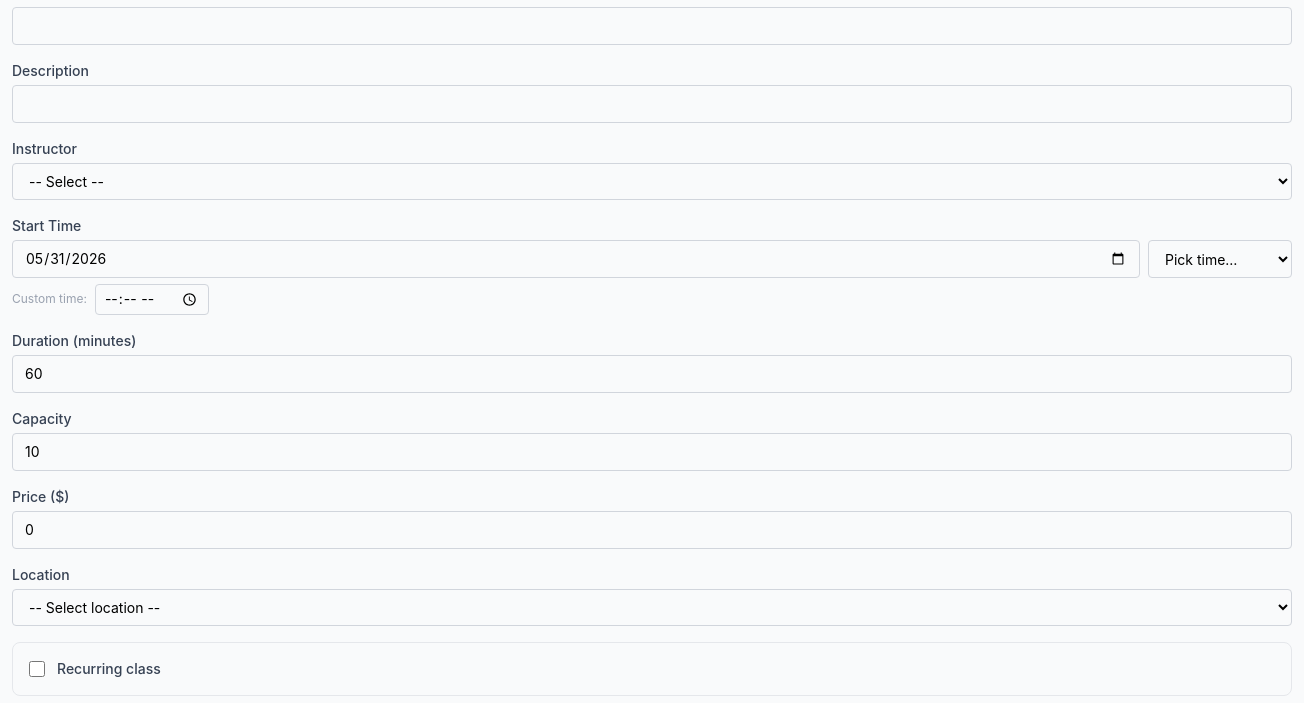
AdminClassForm › shows recurrence end date when recurring is checked
Click the checkbox: x=37, y=669 [29, 661, 45, 677]
(page scrolled)
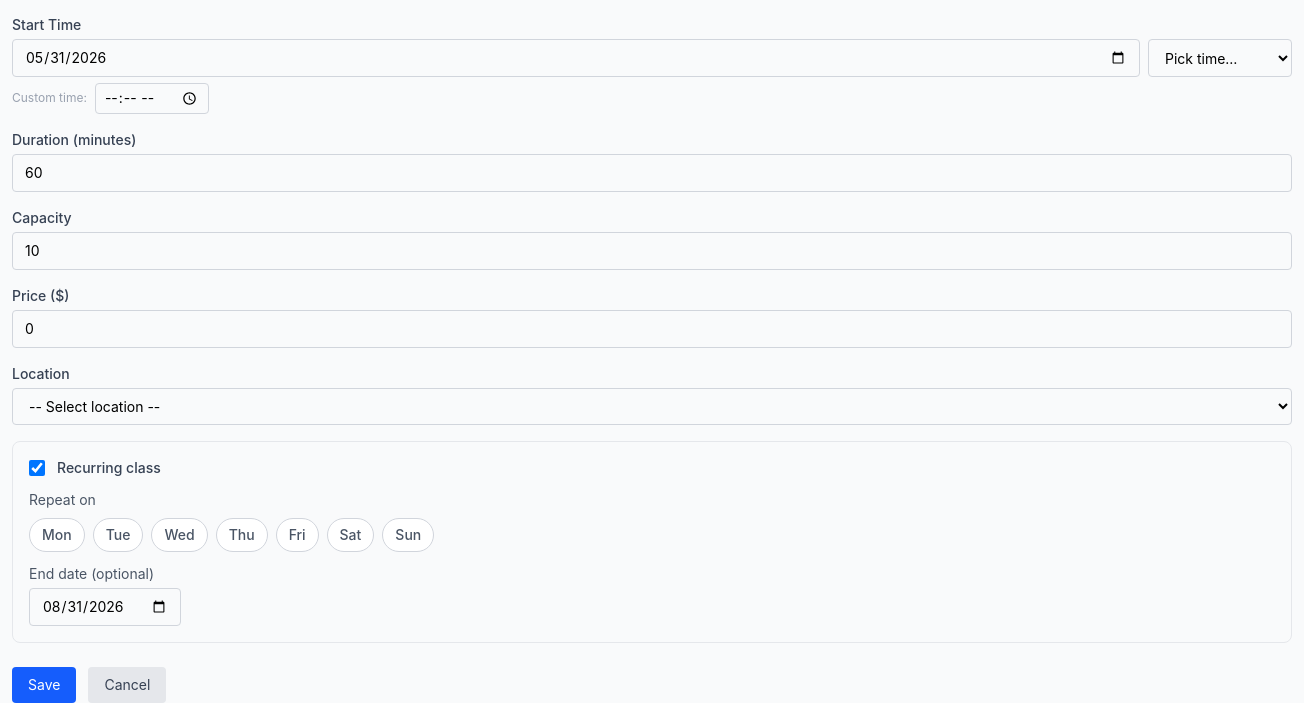
Check: the text "End date (optional)" is shown, box [29, 565, 154, 582]
